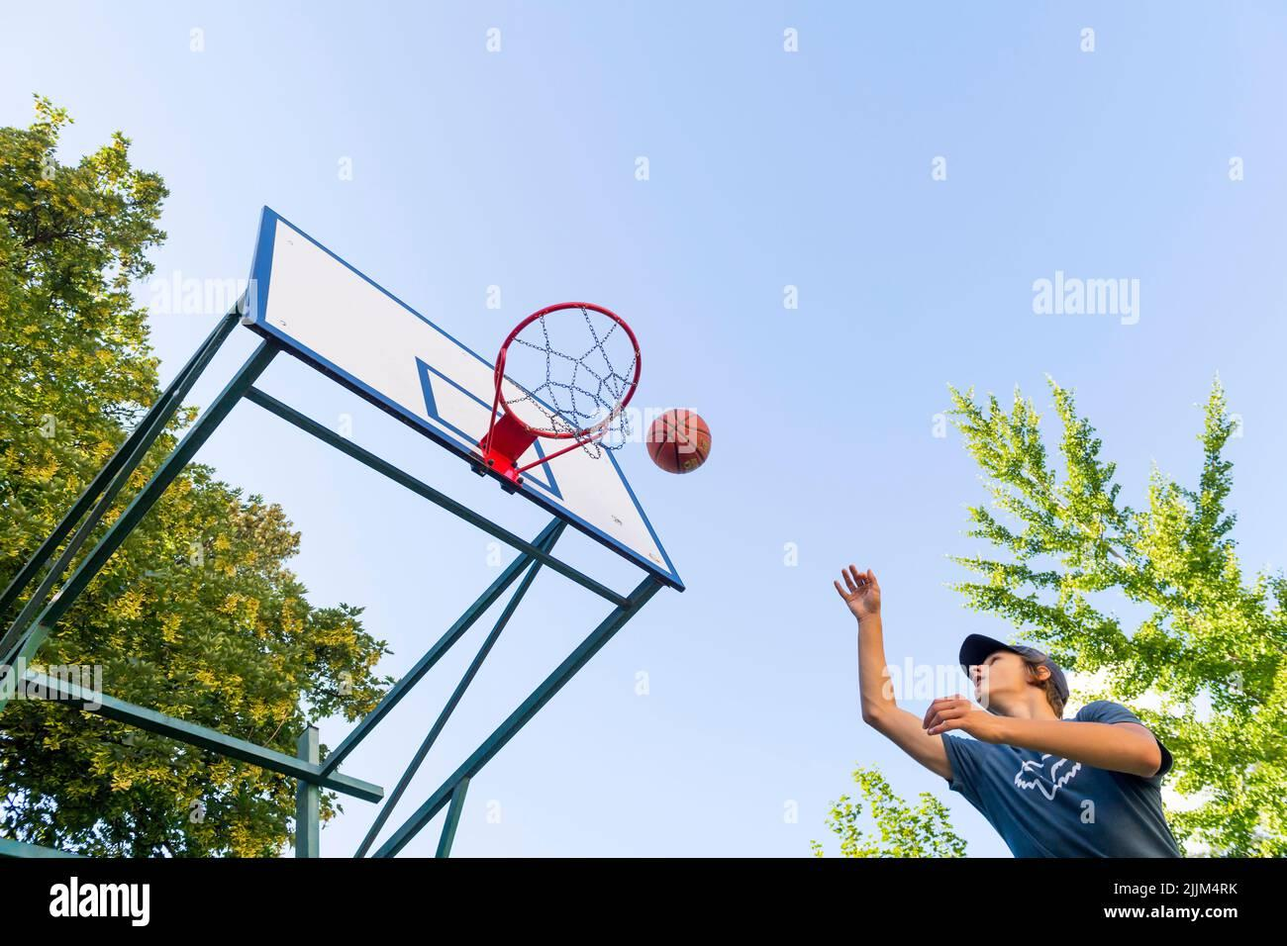basketball: (642, 406, 713, 479)
